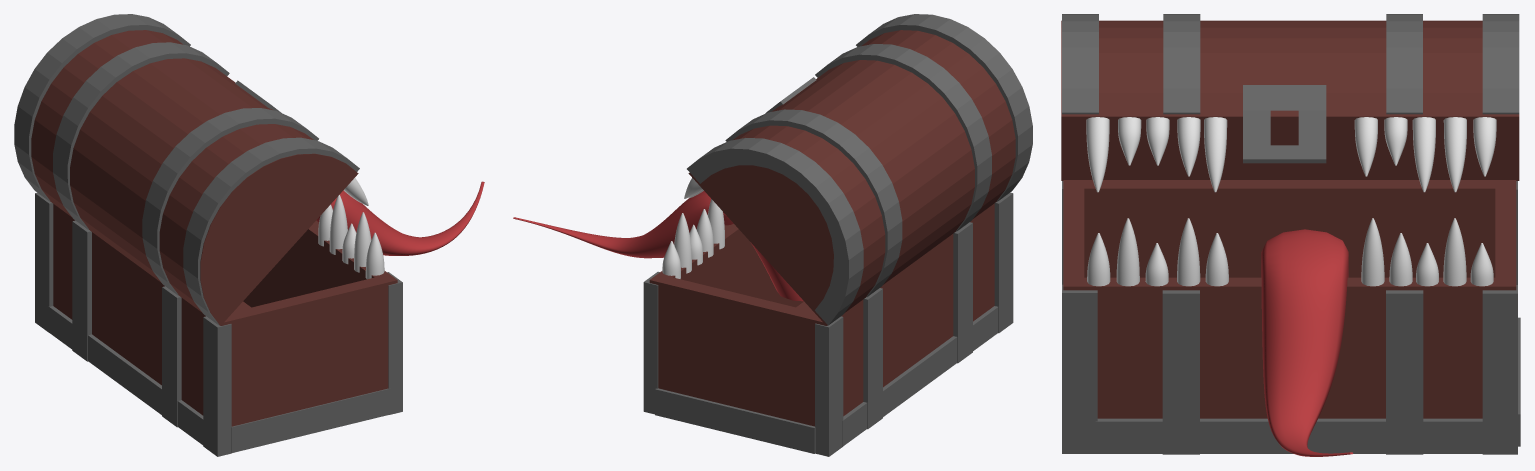
The model's file is Chesty 1.fbx.
The picture shows the model from 3 angles, left to right: view 1: azimuth 30°, elevation 25°; view 2: azimuth 150°, elevation 25°; view 3: azimuth 270°, elevation 25°; orthographic projection. The views are drawn at different scales.
Parts seen in each view (by area): view 1: Cylinder.005, Cube.015, Cylinder.007, Cylinder.006, Cylinder.009, Cylinder.008, Cube.022, Cube.019, Cube.020, NurbsPath.021, Cube.027, Cube.028 (+5 smaller); view 2: Cylinder.005, Cube.015, Cylinder.009, Cylinder.006, Cylinder.008, Cylinder.007, Cube.023, Cube.020, Cube.021, NurbsPath.021, Cube.028, Cube.027 (+5 smaller); view 3: Cube.015, Cylinder.005, NurbsPath.021, Cube.017, Cube.024, Cube.025, Cube.018, Cube.016, Cube.026, Cylinder.007, Cylinder.009, Cylinder.006 (+21 smaller).
Boxes of the visible parts, left/top/right/bottom form: Cylinder.005: left=31, top=30, right=358, bottom=325; Cube.015: left=53, top=204, right=397, bottom=426; Cylinder.007: left=142, top=108, right=318, bottom=295; Cylinder.006: left=183, top=137, right=359, bottom=324; Cylinder.009: left=14, top=14, right=190, bottom=201; Cylinder.008: left=53, top=42, right=229, bottom=229; Cube.022: left=231, top=388, right=390, bottom=452; Cube.019: left=203, top=316, right=231, bottom=456; Cube.020: left=48, top=306, right=203, bottom=445; NurbsPath.021: left=316, top=181, right=484, bottom=255; Cube.027: left=72, top=220, right=91, bottom=361; Cube.028: left=162, top=286, right=181, bottom=427; Cylinder.005: left=688, top=30, right=1015, bottom=325; Cube.015: left=649, top=203, right=994, bottom=426; Cylinder.009: left=687, top=138, right=863, bottom=325; Cylinder.006: left=856, top=14, right=1032, bottom=201; Cylinder.008: left=725, top=109, right=902, bottom=296; Cylinder.007: left=815, top=44, right=991, bottom=231; Cube.023: left=655, top=388, right=815, bottom=453; Cube.020: left=842, top=306, right=998, bottom=446; Cube.021: left=815, top=316, right=843, bottom=456; NurbsPath.021: left=513, top=191, right=803, bottom=301; Cube.028: left=953, top=222, right=972, bottom=363; Cube.027: left=863, top=288, right=882, bottom=429; Cube.015: left=1063, top=180, right=1516, bottom=418; Cylinder.005: left=1061, top=20, right=1519, bottom=180; NurbsPath.021: left=1261, top=229, right=1353, bottom=456; Cube.017: left=1095, top=418, right=1482, bottom=453; Cube.024: left=1386, top=290, right=1423, bottom=454; Cube.025: left=1162, top=290, right=1199, bottom=454; Cube.018: left=1482, top=285, right=1517, bottom=454; Cube.016: left=1062, top=284, right=1097, bottom=453; Cube.026: left=1243, top=85, right=1326, bottom=163; Cylinder.007: left=1163, top=14, right=1200, bottom=114; Cylinder.009: left=1482, top=14, right=1519, bottom=114; Cylinder.006: left=1062, top=14, right=1098, bottom=114.
Bounding box in the file's own units: 636 × 435 × 505.
